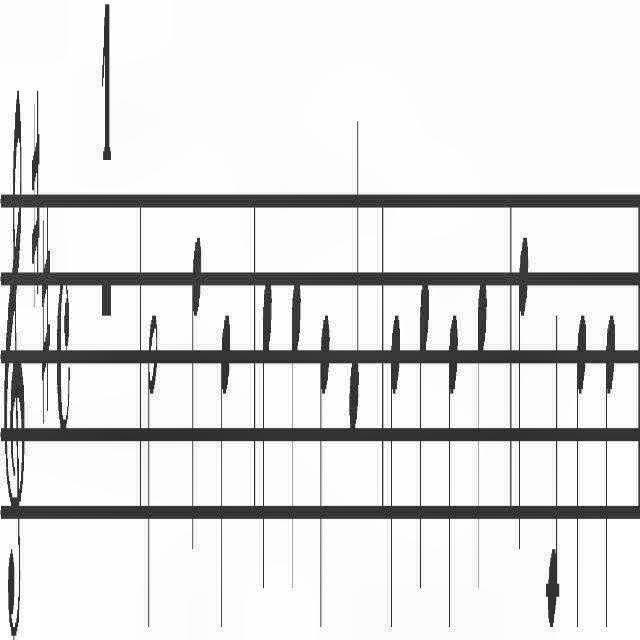Bass-clef: (3, 82, 25, 640)
Diez: (41, 200, 50, 422), (32, 89, 40, 319)
Half-note: (146, 296, 158, 636)
Quarter-note: (190, 216, 202, 566), (260, 272, 272, 612), (389, 296, 401, 636), (290, 270, 302, 606), (419, 270, 431, 606), (546, 292, 558, 628), (348, 114, 360, 446), (517, 233, 529, 563), (604, 305, 616, 635), (218, 306, 230, 632), (575, 309, 587, 635), (477, 276, 488, 600), (320, 309, 330, 639), (448, 309, 458, 639)
